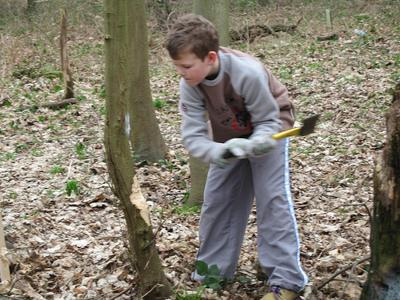person: (163, 14, 310, 300)
